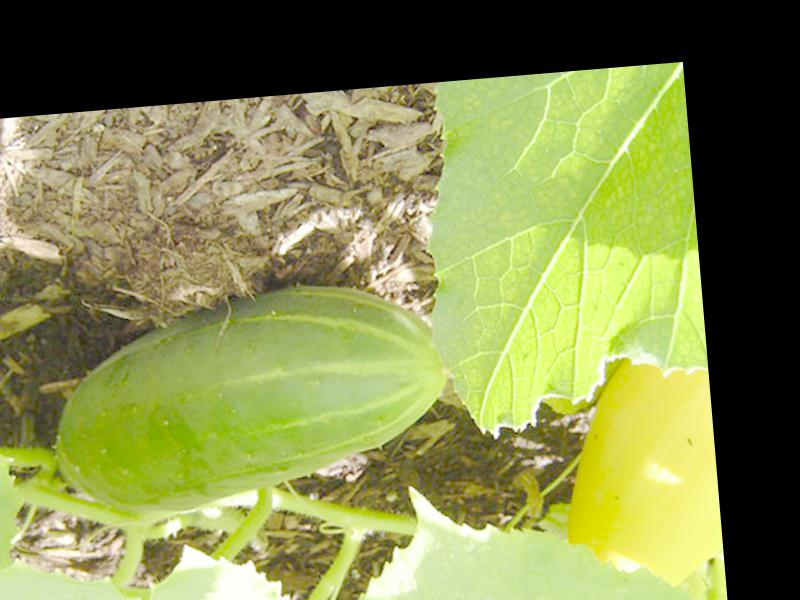Cucumber: (42, 272, 457, 522)
